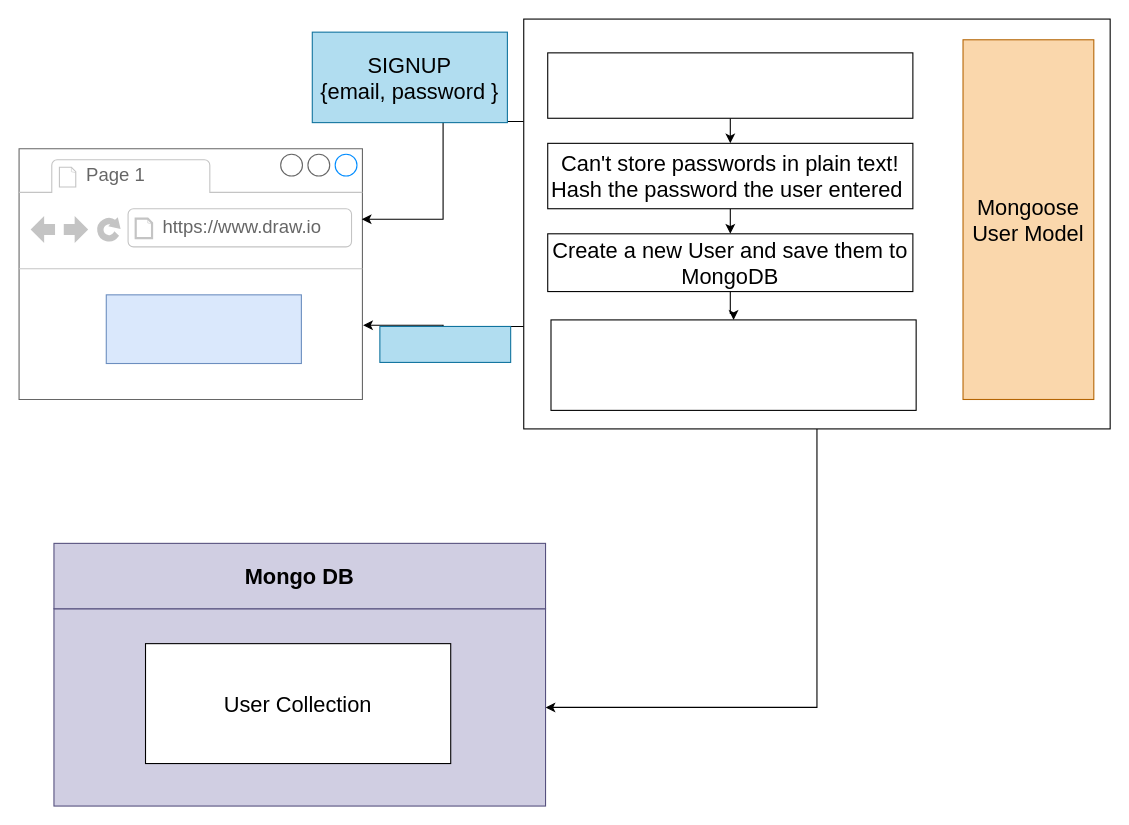
Image size: 1129x825. Some labels were removed from this diagram. Here are the shapes that lost their labels. From the top down, the box of each, then its label:
(547, 52, 913, 118): Does a user with this email already exist? if so, respond with error
(105, 294, 301, 364): React App
(379, 325, 511, 362): Response
(550, 319, 916, 410): User is now considered to be logged in, Send them a cookie/JWT/something
